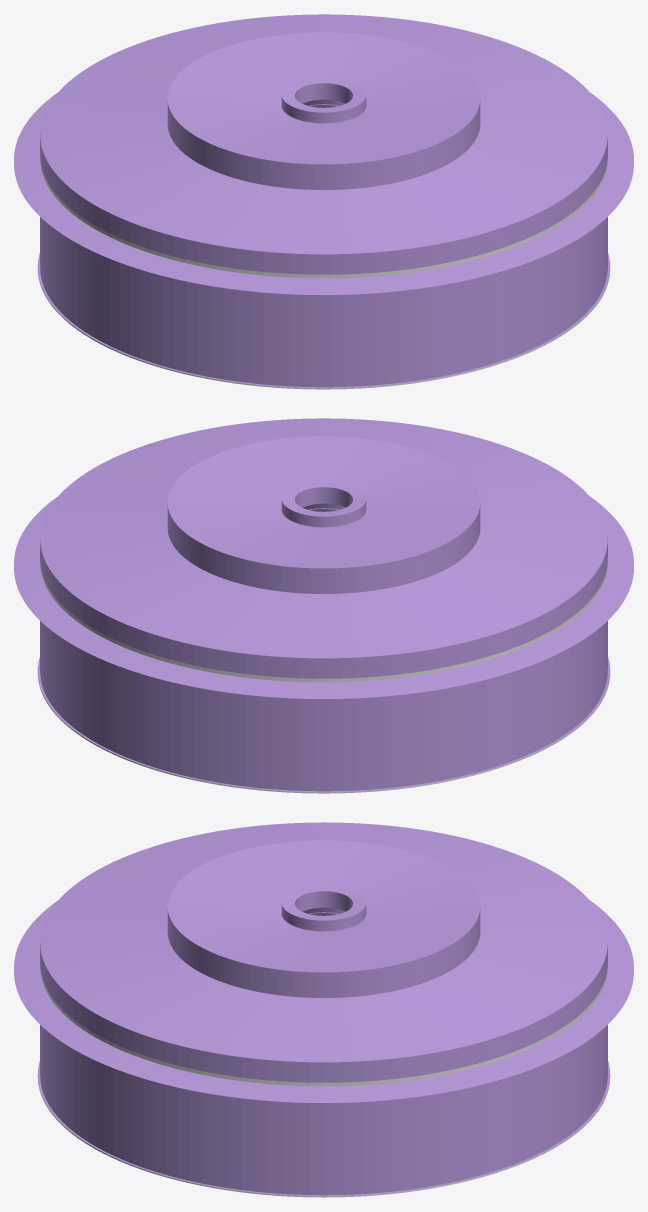
File: CaveStoneVF.fbx
3 views of the same model, one above another, from view 1: azimuth 30°, elevation 25°; view 2: azimuth 150°, elevation 25°; view 3: azimuth 270°, elevation 25° (orthographic).
Visible parts, largest first — view 1: Ground.001; view 2: Ground.001; view 3: Ground.001.
Boxes of the visible parts, box(x1,y1,x2,y2) form: Ground.001: box(14, 14, 633, 389); Ground.001: box(14, 418, 633, 793); Ground.001: box(14, 822, 633, 1197).
Bounding box in the file's own units: 2625 × 816 × 2625.
